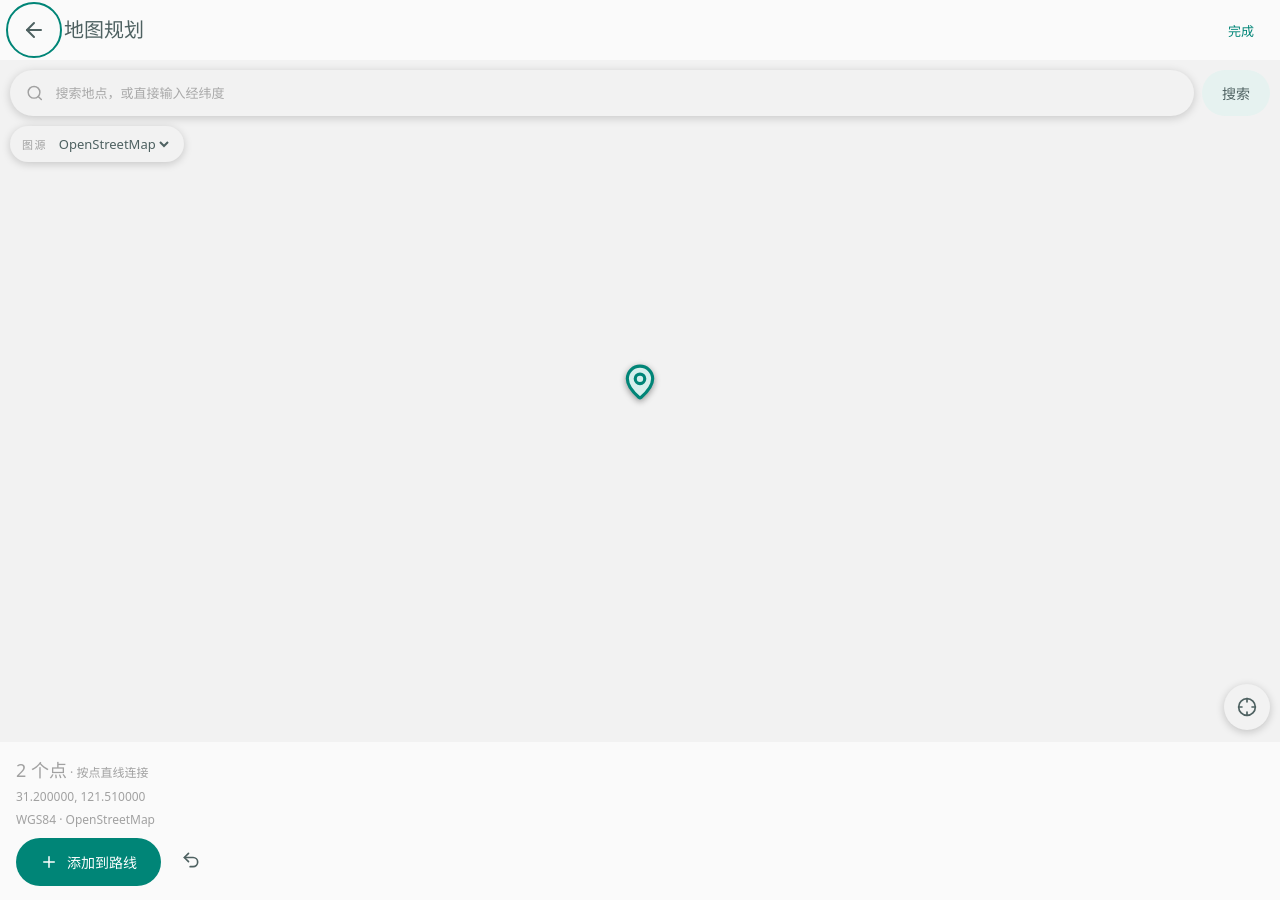
Test: converts stored WGS84 points before handing them to a GCJ-02 map
Select "高德地图" in the dropdown named "地图图源": (113, 144) [55, 134, 172, 154]
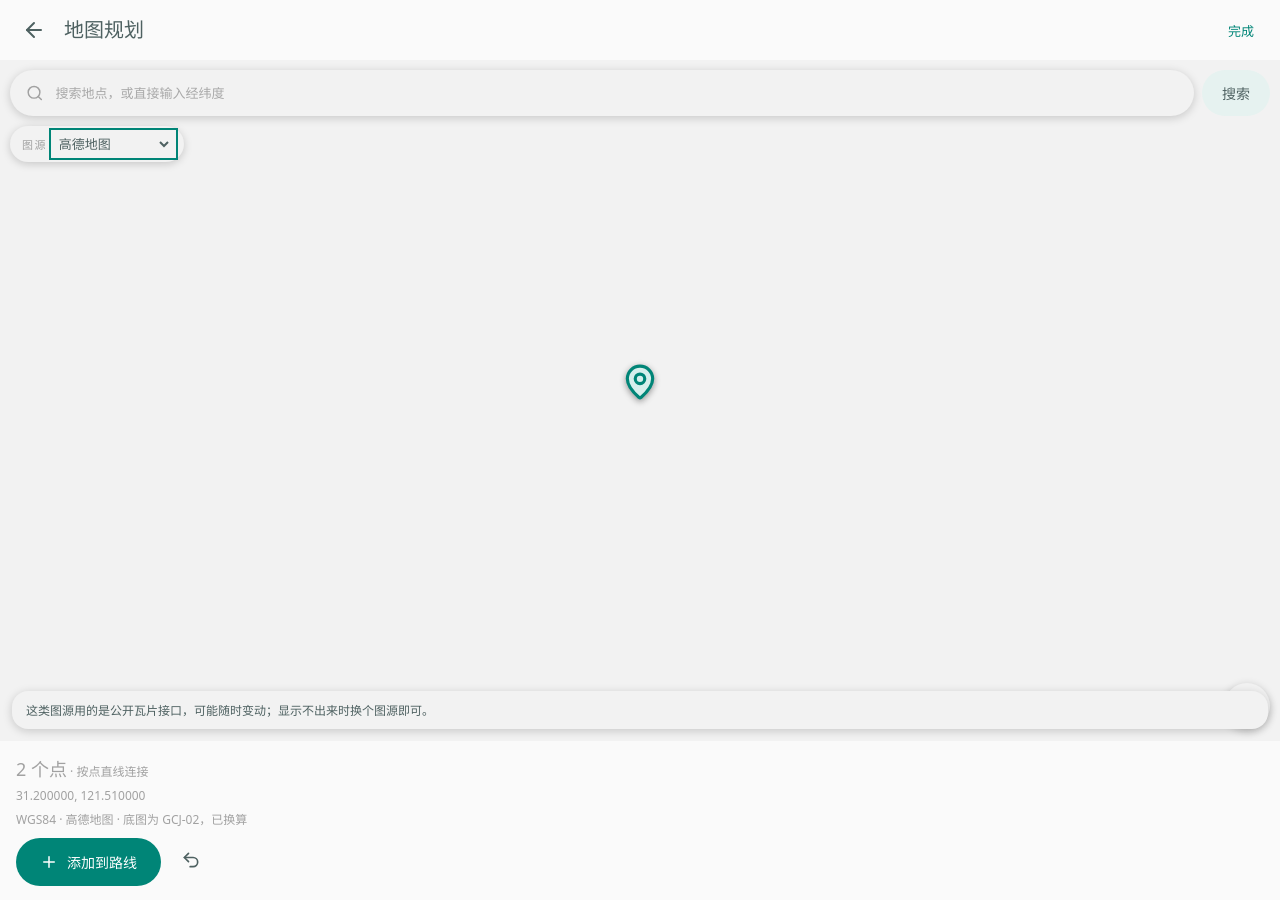
expect the text "WGS84 · 高德地图 · 底图为 GCJ-02，已换算" is shown: met, box [16, 811, 247, 828]
